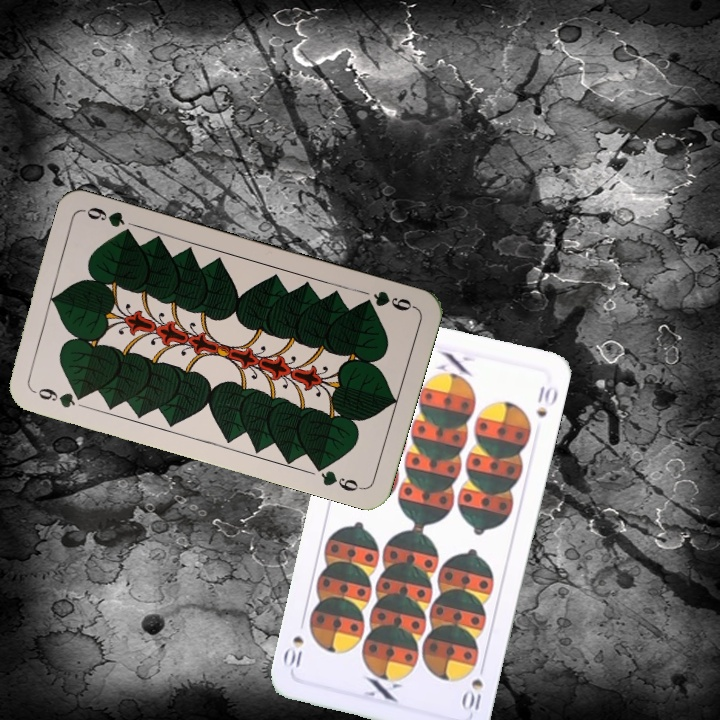G9: (357, 287, 418, 314), (29, 384, 89, 411)
S10: (459, 659, 488, 713)
